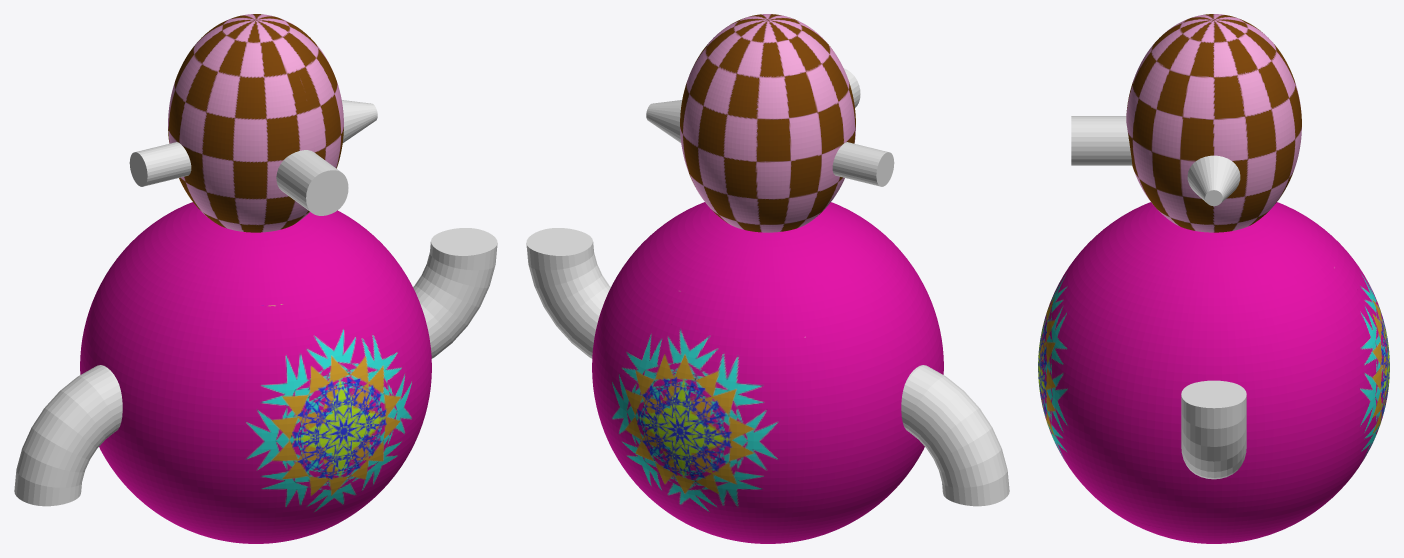
File: BOD0_BMC10_BCC8_BPT0_FRC30_HEA2_HMC3_HCC17_HPT4_ELT1_ERT2_ELL0_ERL0_AP3_AAL2_AAR1_BEK1.fbx
The picture shows the model from 3 angles, left to right: view 1: azimuth 30°, elevation 25°; view 2: azimuth 150°, elevation 25°; view 3: azimuth 270°, elevation 25°; orthographic projection.
Visible parts, largest first — view 1: Body, Arm.001, Arm, Beak, Ear, Ear.001; view 2: Body, Arm.001, Arm, Ear, Ear.001; view 3: Body, Arm, Beak, Ear.001.
Part boxes in pixels (x1=…): Body: x1=80, y1=14, x2=431, y2=543; Arm.001: x1=14, y1=365, x2=122, y2=506; Arm: x1=413, y1=228, x2=497, y2=358; Beak: x1=276, y1=150, x2=348, y2=215; Ear: x1=129, y1=142, x2=191, y2=186; Ear.001: x1=341, y1=100, x2=377, y2=142; Body: x1=592, y1=14, x2=943, y2=543; Arm.001: x1=901, y1=365, x2=1009, y2=506; Arm: x1=526, y1=228, x2=610, y2=358; Ear: x1=832, y1=142, x2=894, y2=186; Ear.001: x1=646, y1=100, x2=682, y2=142; Body: x1=1038, y1=14, x2=1389, y2=543; Arm: x1=1181, y1=380, x2=1246, y2=479; Beak: x1=1071, y1=116, x2=1132, y2=165; Ear.001: x1=1187, y1=155, x2=1240, y2=206.
Bounding box in the file's own units: 76.63 × 78.65 × 49.36.
1 material, 1 textured.
